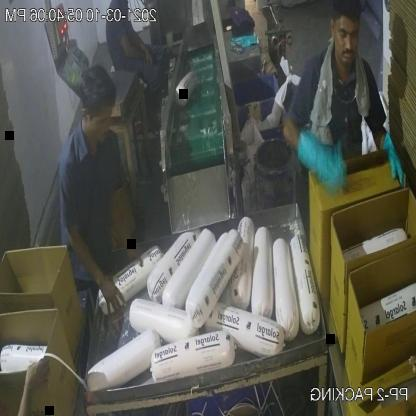glove: (290, 126, 350, 196), (373, 125, 407, 191)
no_glove: (57, 214, 124, 317), (109, 185, 143, 270), (115, 28, 152, 64)
